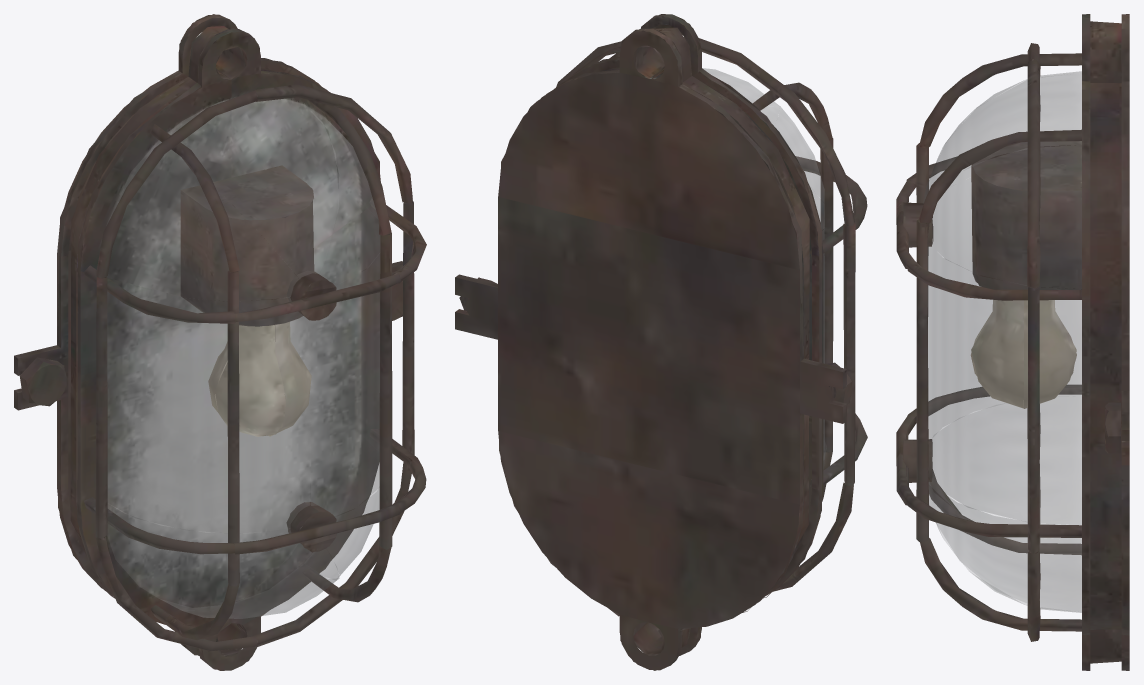
The model's file is industrial_wall_lamp.glb.
The picture shows the model from 3 angles, left to right: view 1: azimuth 30°, elevation 25°; view 2: azimuth 150°, elevation 25°; view 3: azimuth 270°, elevation 25°; orthographic projection.
Visible parts, largest first — view 1: industrial_wall_lamp; view 2: industrial_wall_lamp; view 3: industrial_wall_lamp.
Part boxes in pixels (x1=…): industrial_wall_lamp: x1=14, y1=14, x2=426, y2=670; industrial_wall_lamp: x1=455, y1=14, x2=867, y2=670; industrial_wall_lamp: x1=896, y1=14, x2=1129, y2=670.
Size of the model in its own units: 0.2737 by 0.4299 by 0.1401.
Materials: 2 (2 with a texture image).
